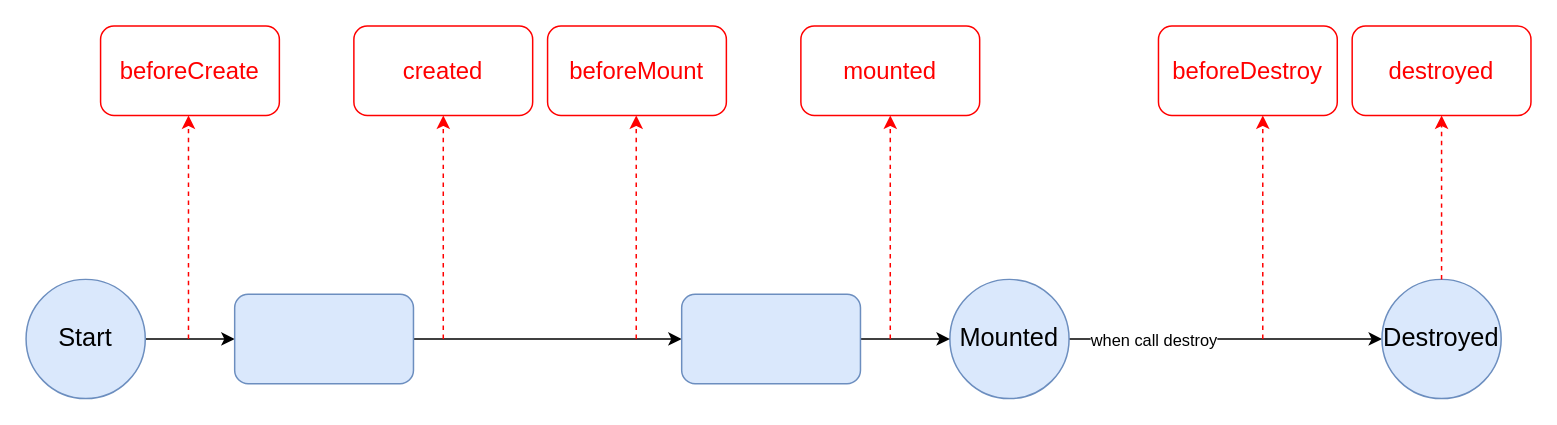
The diagram is 1557 pixels wide and 425 high, and some of its shapes have lost their labels. The centre of each missing label's shape, as x and y in pixels:
"create instance" belongs at pixel 323 338.
"render" belongs at pixel 770 338.
